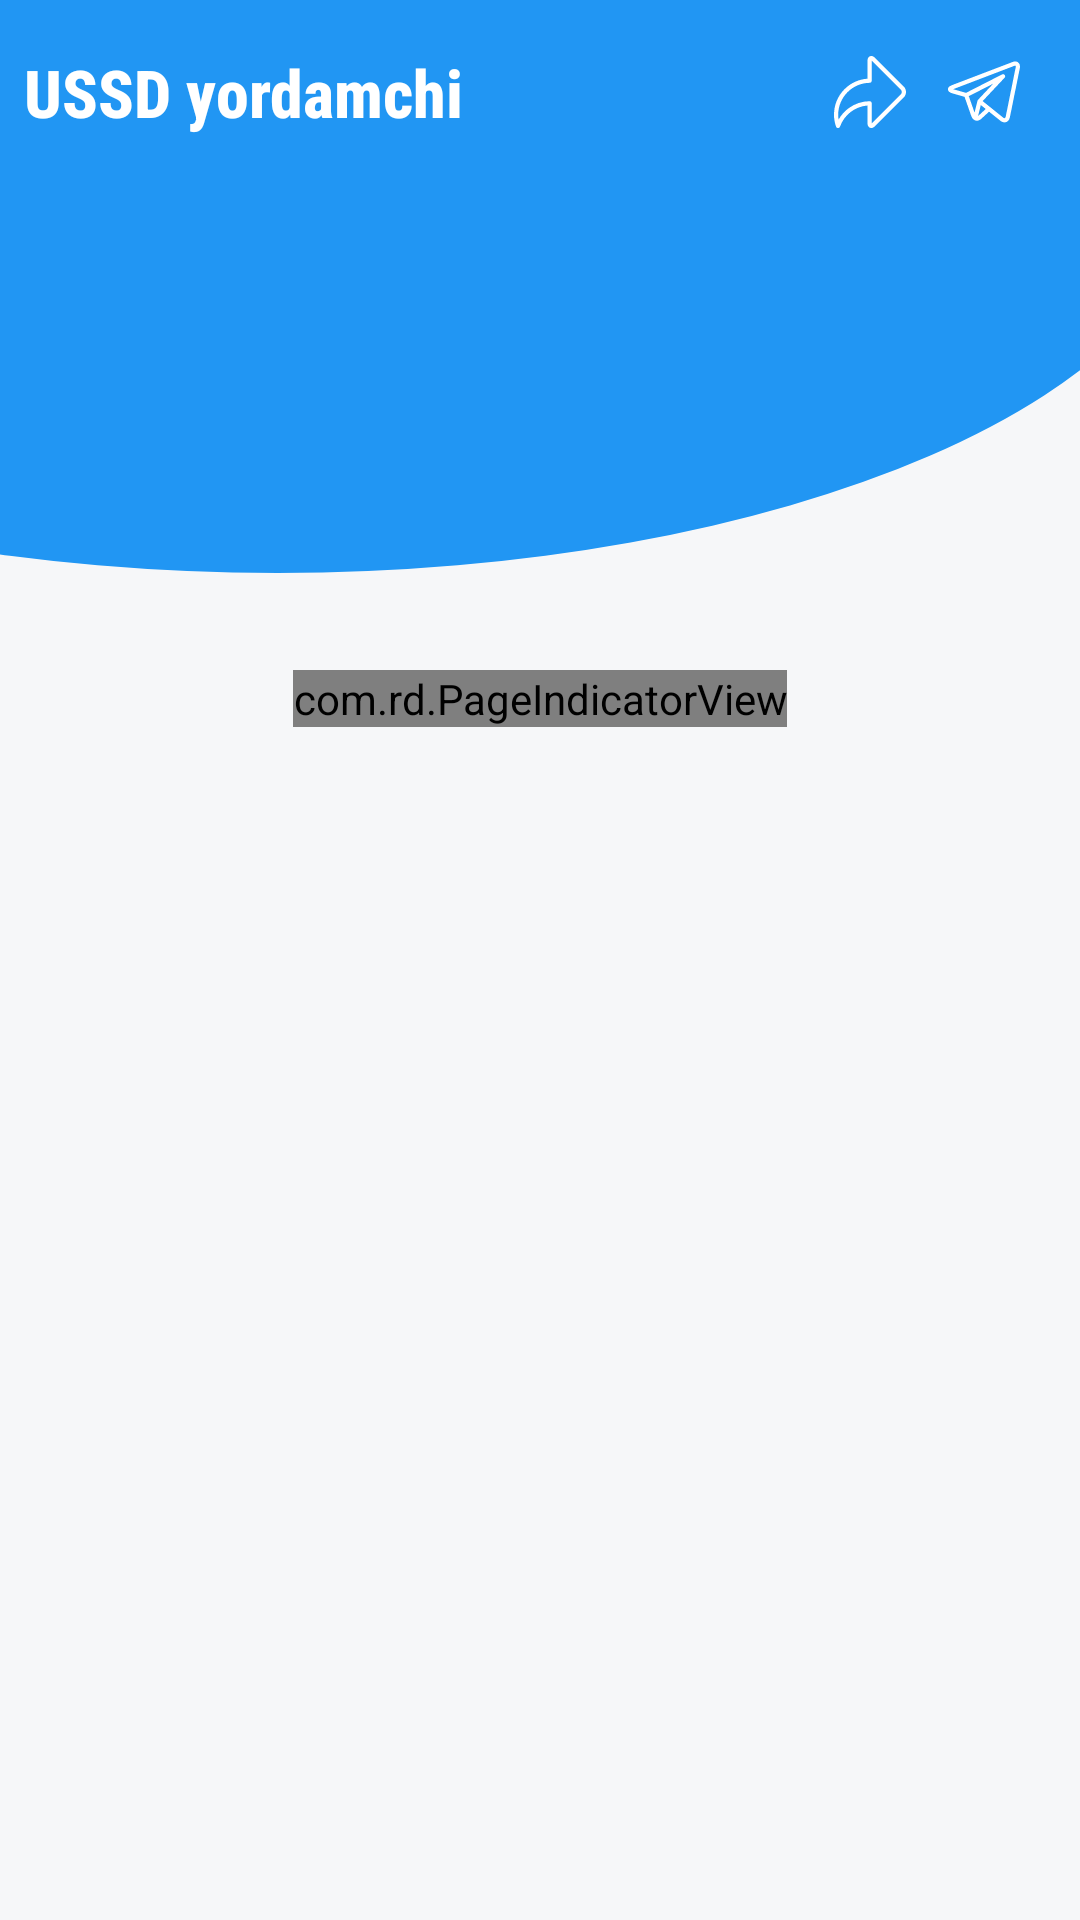

Icons on this 1080×1920 Android screen, each with the point to tap as [x,y]:
share: [870,92]
